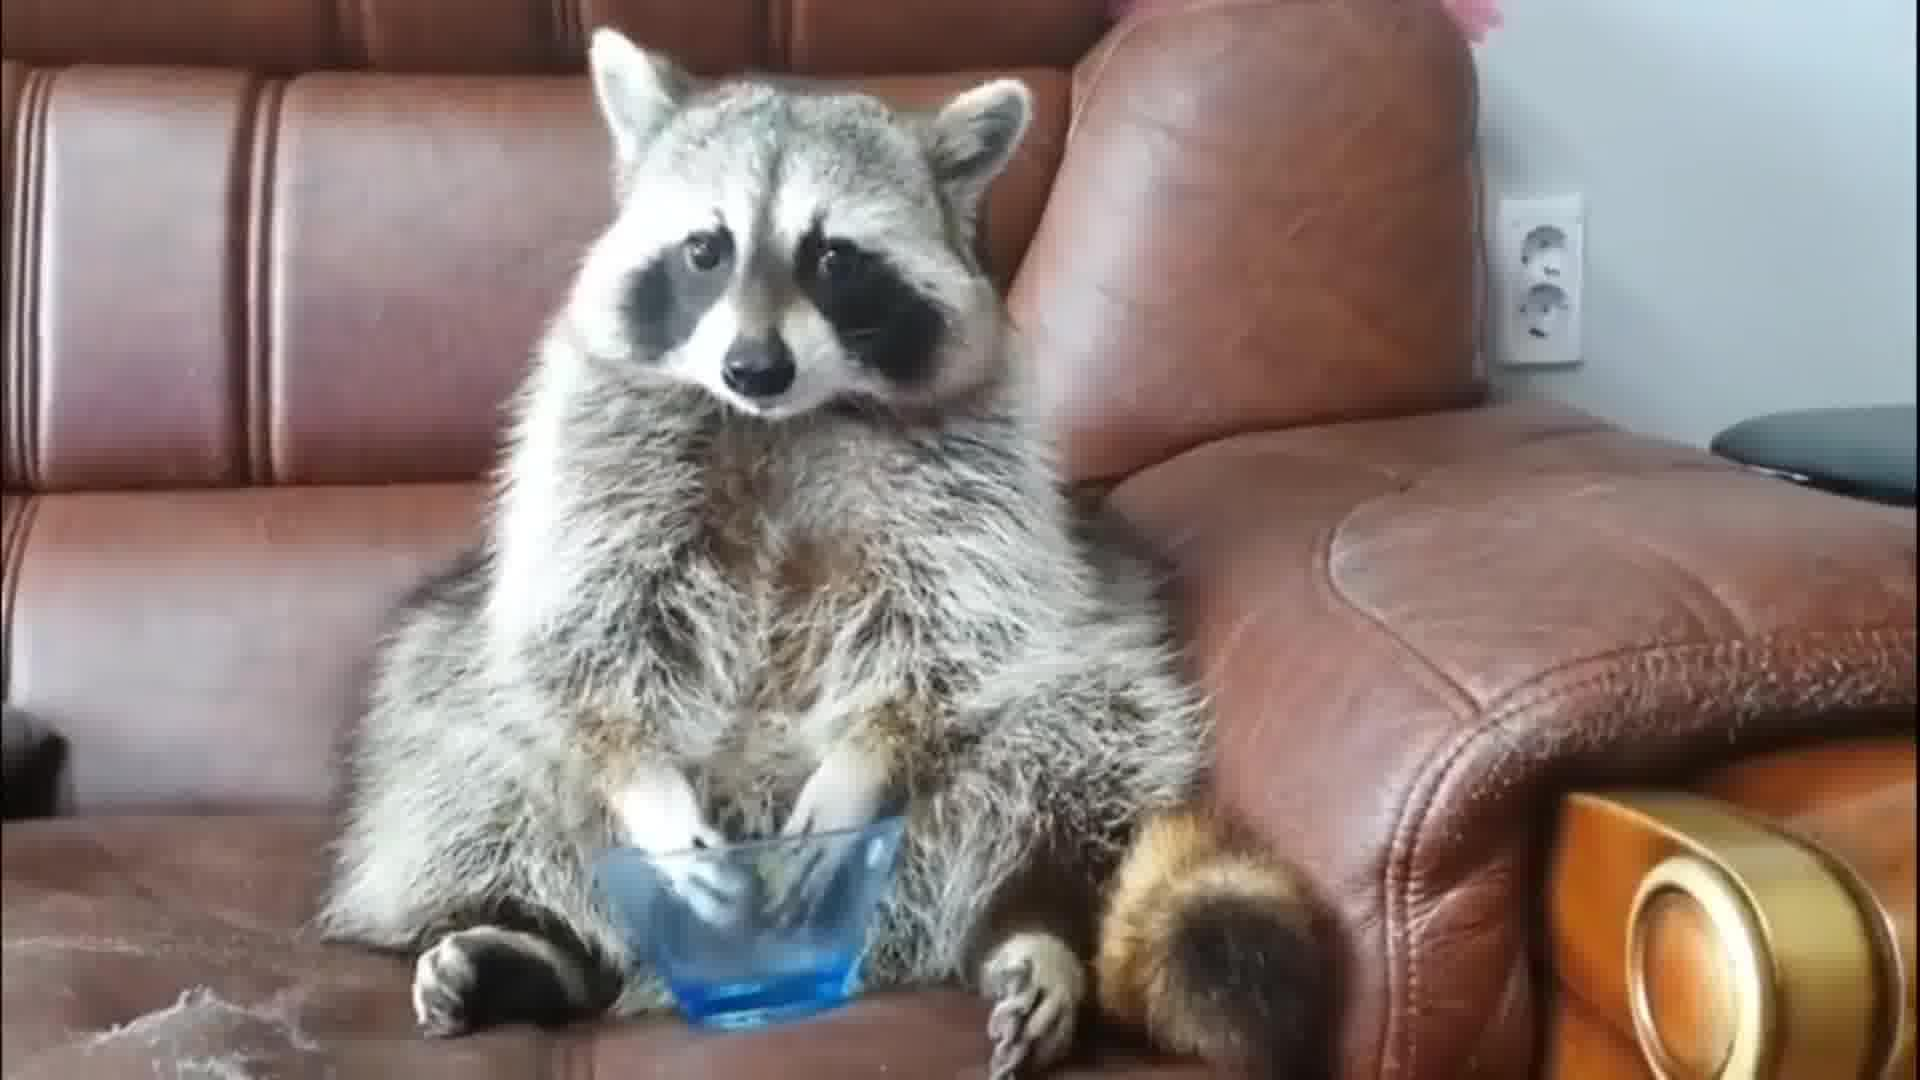raccoon: (316, 22, 1340, 1080)
